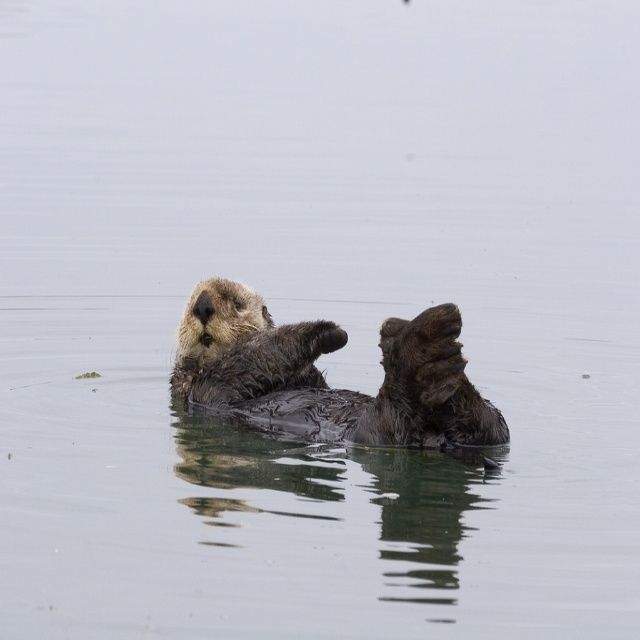Otter: (168, 270, 510, 451)
